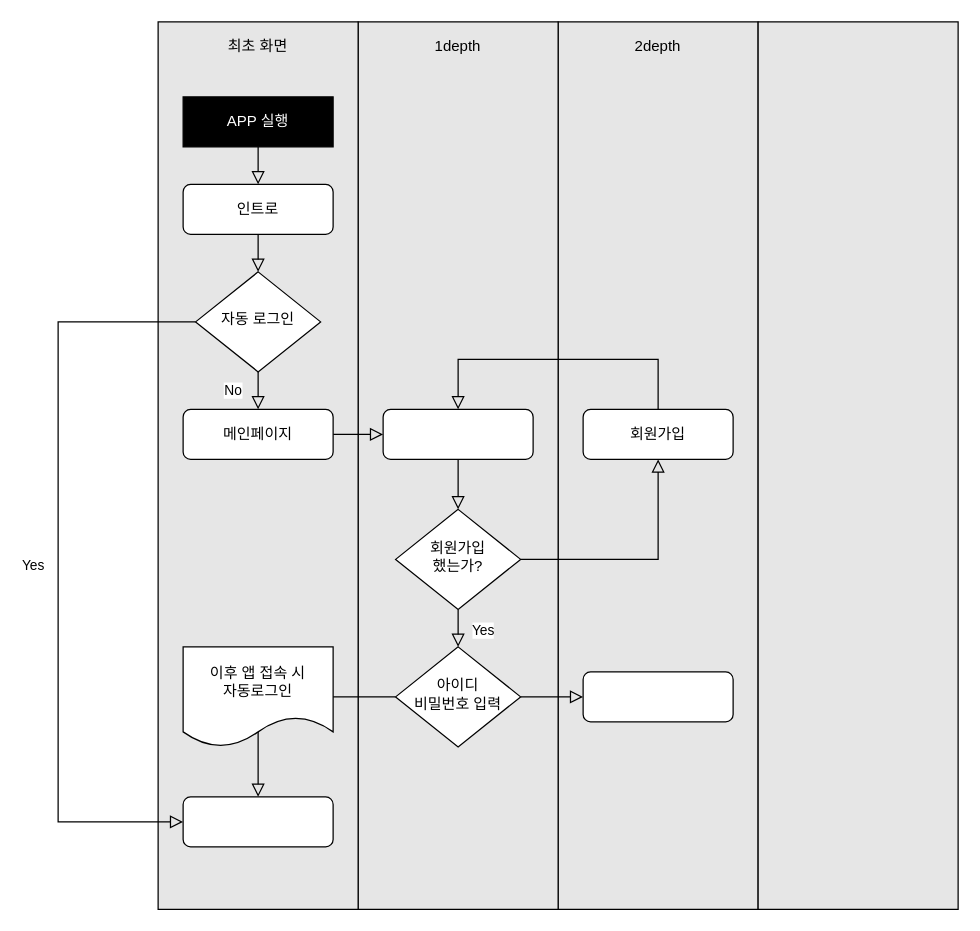
Some shapes in this 980 by 931 pixel diagram are drawn without their labels. Each missing label, with the box of its shape:
3depth: (757, 21, 958, 909)
로그인_메인페이지: (182, 796, 333, 847)
로그인페이지: (382, 408, 533, 459)
아이디/비밀번호 찾기: (582, 671, 733, 722)
